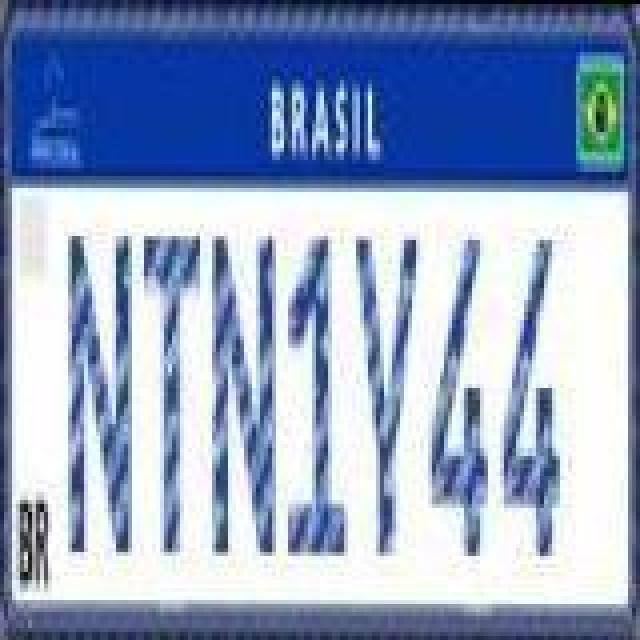1: (284, 228, 348, 552)
4: (496, 234, 560, 558), (426, 232, 486, 556)
N: (66, 224, 134, 560), (210, 226, 278, 562)
T: (140, 226, 204, 562)
Y: (354, 226, 422, 562)
